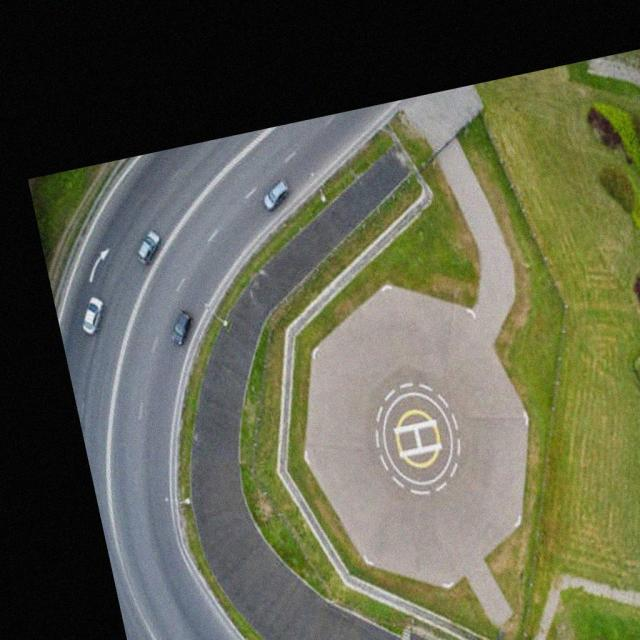helipad: (379, 390, 454, 488)
